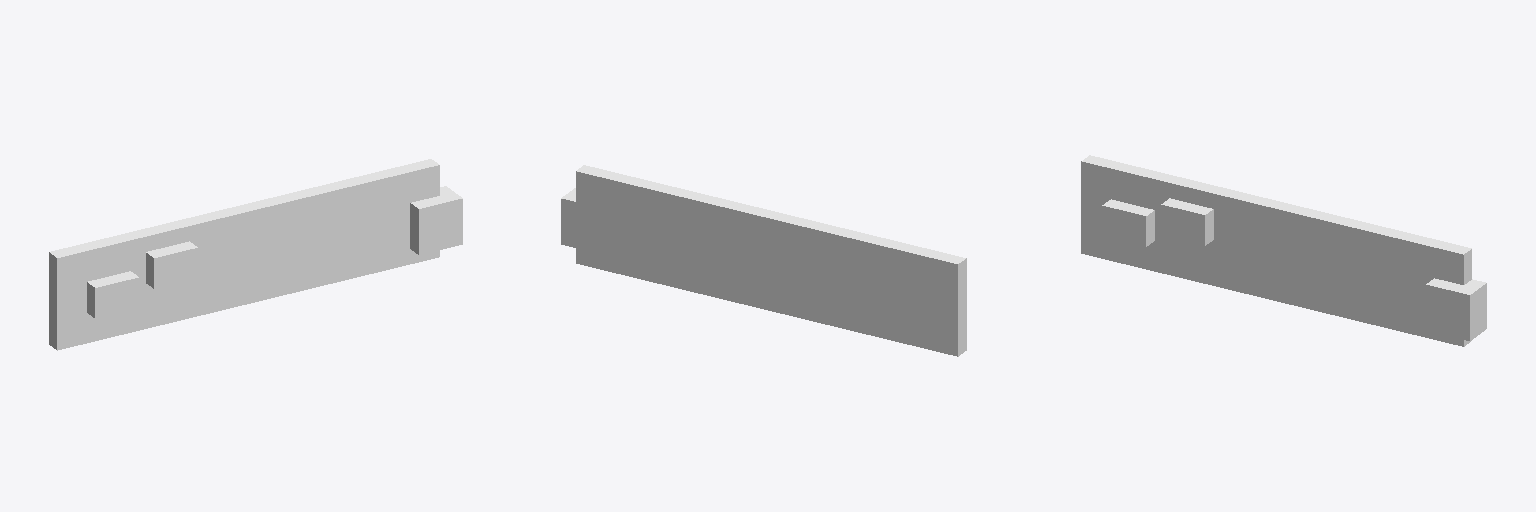
File: SmallBuilding04-8.obj
The picture shows the model from 3 angles: view 1: azimuth 30°, elevation 25°; view 2: azimuth 150°, elevation 25°; view 3: azimuth 330°, elevation 25°; orthographic projection.
Parts seen in each view (by area): view 1: object 1; view 2: object 1; view 3: object 1.
Boxes of the visible parts, x1,y1,x2,y2 form: object 1: [49, 159, 462, 350]; object 1: [561, 165, 966, 356]; object 1: [1081, 155, 1486, 346].
Bounding box in the file's own units: 2.7 × 0.6 × 0.2.